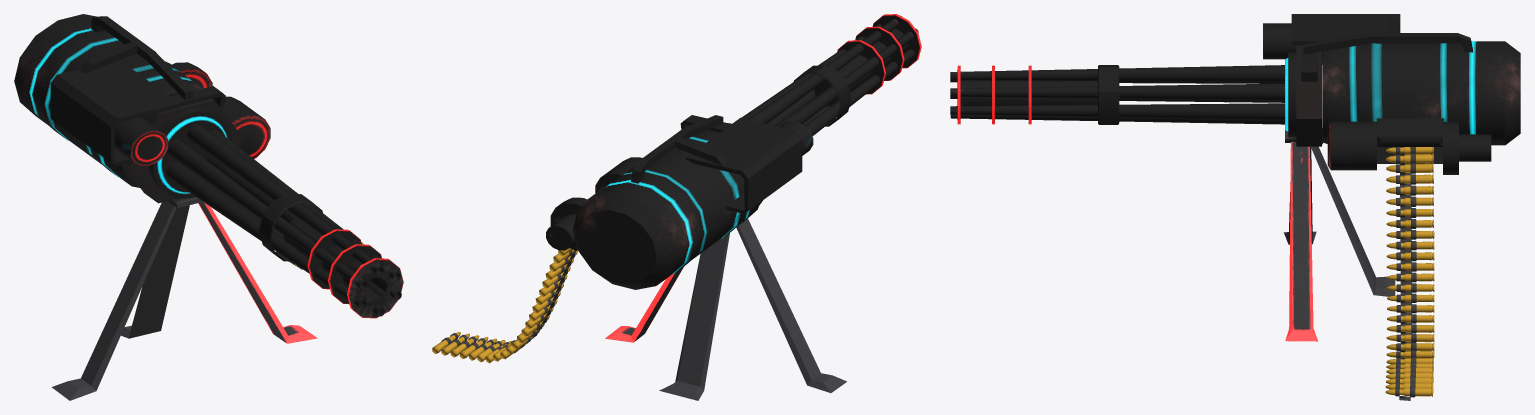
Rendered from ПУЛЕМЕТ  (3).fbx.
The picture shows the model from 3 angles, left to right: view 1: azimuth 30°, elevation 25°; view 2: azimuth 150°, elevation 25°; view 3: azimuth 270°, elevation 25°; orthographic projection. The views are drawn at different scales.
Visible parts, largest first — view 1: ПУШКА, на хую вертела, ножки как у твоей бывшей; view 2: ПУШКА, ножки как у твоей бывшей, на хую вертела, пульки; view 3: ПУШКА, на хую вертела, пульки, ножки как у твоей бывшей.
Boxes of the visible parts, x1,y1,x2,y2 form: ПУШКА: (14, 14, 270, 207); на хую вертела: (149, 108, 403, 318); ножки как у твоей бывшей: (51, 201, 317, 400); ПУШКА: (546, 115, 813, 289); ножки как у твоей бывшей: (605, 218, 846, 400); на хую вертела: (727, 14, 921, 136); пульки: (432, 248, 577, 363); ПУШКА: (1263, 14, 1520, 174); на хую вертела: (950, 52, 1296, 137); пульки: (1385, 147, 1434, 400); ножки как у твоей бывшей: (1284, 142, 1395, 341).
Size of the model in its own units: 89.8 by 63.84 by 129.
